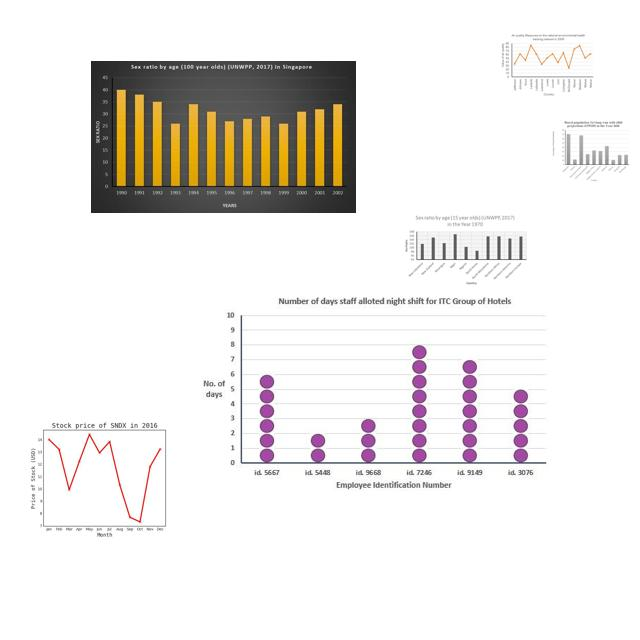Graph: (191, 292, 554, 497), (91, 61, 356, 213), (19, 415, 186, 540), (401, 212, 529, 287), (499, 32, 594, 98), (551, 120, 630, 182)
